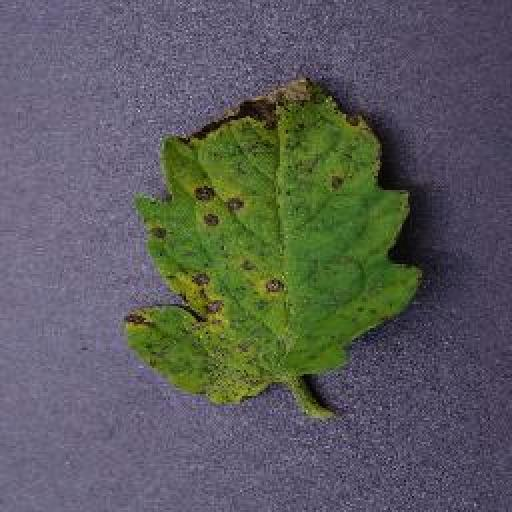disease_tomato: (128, 75, 422, 401)
